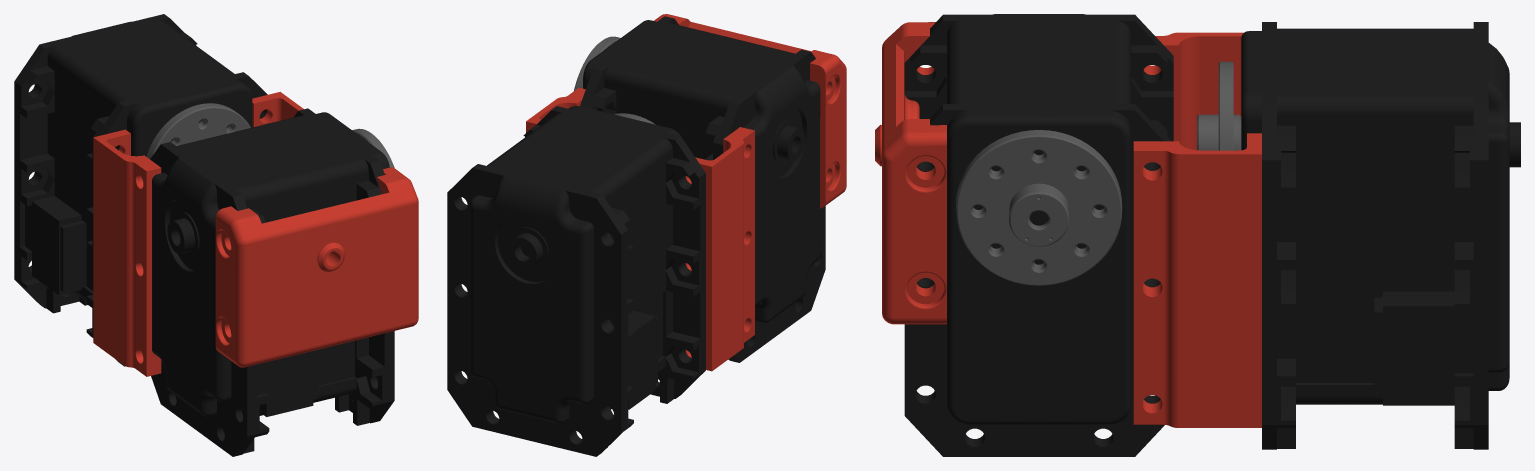
Rendered from Left Ankle.dae.
The picture shows the model from 3 angles, left to right: view 1: azimuth 30°, elevation 25°; view 2: azimuth 150°, elevation 25°; view 3: azimuth 270°, elevation 25°; orthographic projection. The views are drawn at different scales.
Parts seen in each view (by area): view 1: Body1_Paint_-_Metallic_(Black) (×2), Body1_Paint_-_Metallic_(Red) (×3), Body1_Paint_-_Metallic_(Dark_Grey); view 2: Body1_Paint_-_Metallic_(Black) (×2), Body1_Paint_-_Metallic_(Red) (×3), Body1_Paint_-_Metallic_(Dark_Grey); view 3: Body1_Paint_-_Metallic_(Black) (×2), Body1_Paint_-_Metallic_(Red) (×3), Body1_Paint_-_Metallic_(Dark_Grey) (×2).
Boxes of the visible parts, x1=… form: Body1_Paint_-_Metallic_(Black) (×2): x1=14, y1=14, x2=394, y2=456; Body1_Paint_-_Metallic_(Red) (×3): x1=93, y1=92, x2=418, y2=376; Body1_Paint_-_Metallic_(Dark_Grey): x1=146, y1=103, x2=250, y2=158; Body1_Paint_-_Metallic_(Black) (×2): x1=447, y1=16, x2=825, y2=456; Body1_Paint_-_Metallic_(Red) (×3): x1=526, y1=14, x2=846, y2=371; Body1_Paint_-_Metallic_(Dark_Grey): x1=574, y1=36, x2=620, y2=90; Body1_Paint_-_Metallic_(Black) (×2): x1=904, y1=14, x2=1520, y2=456; Body1_Paint_-_Metallic_(Red) (×3): x1=875, y1=22, x2=1261, y2=427; Body1_Paint_-_Metallic_(Dark_Grey) (×2): x1=956, y1=61, x2=1241, y2=285.
Bounding box in the file's own units: 0.0428 × 0.0854 × 0.0506.
